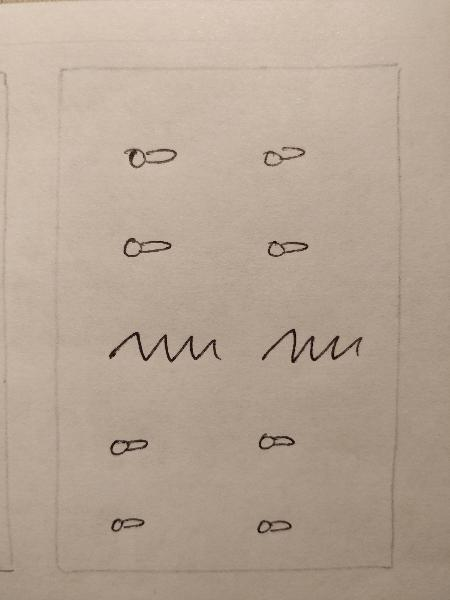switch: (111, 134, 196, 184), (249, 226, 323, 268), (253, 132, 313, 177), (99, 424, 158, 468), (242, 504, 303, 545), (117, 227, 180, 266), (247, 418, 304, 460), (95, 502, 155, 540)
text: (98, 322, 234, 380), (253, 319, 371, 374)
